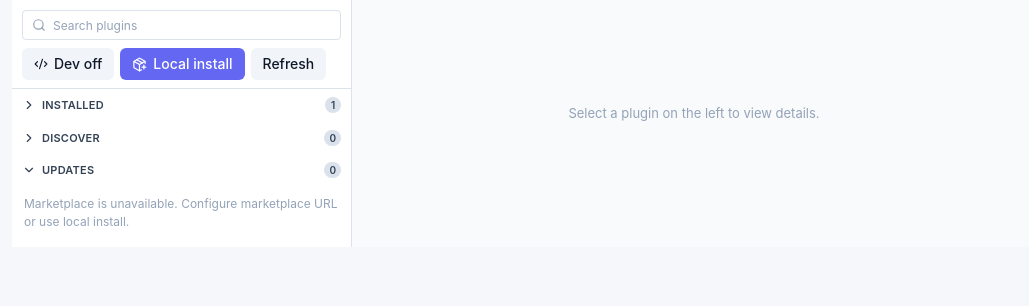
Test: plugin hub › shows marketplace failure instead of a false no-updates result, and offers refresh
Expected: the element that starts with "Updates" shows "Marketplace is unavailable. Configure marketplace URL or use local install.", [24,196,338,228]
Click the button "Refresh" at (288, 64), box [250,48,326,80]
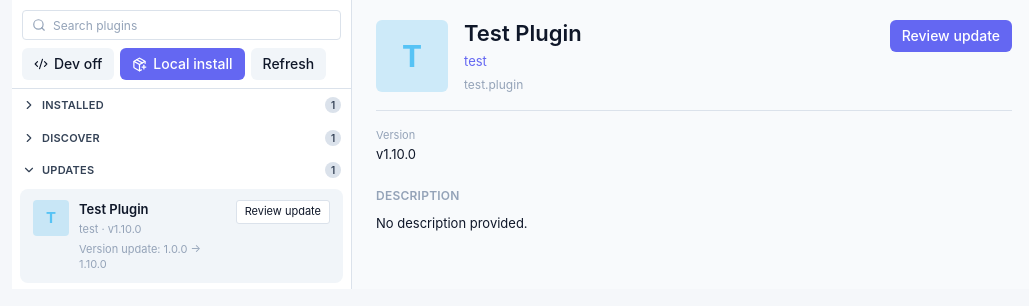
Result: the element that starts with "Updates" shows "1.0.0 → 1.10.0" at [79,242,201,271]
